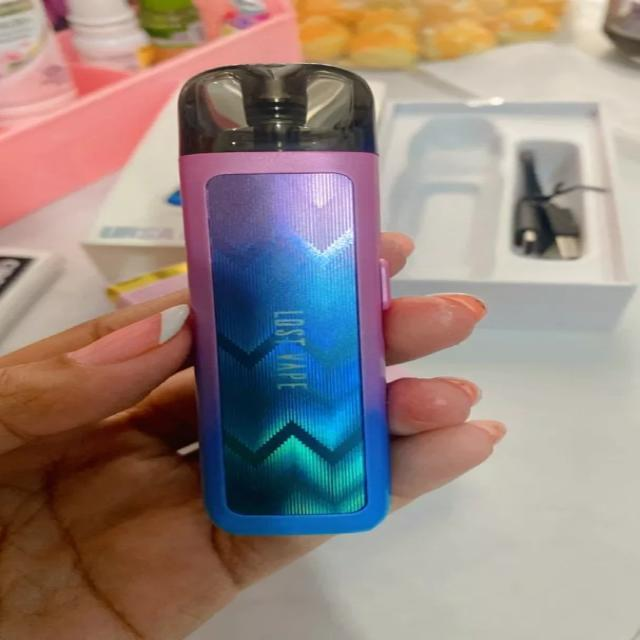Hazard: (174, 62, 390, 539)
